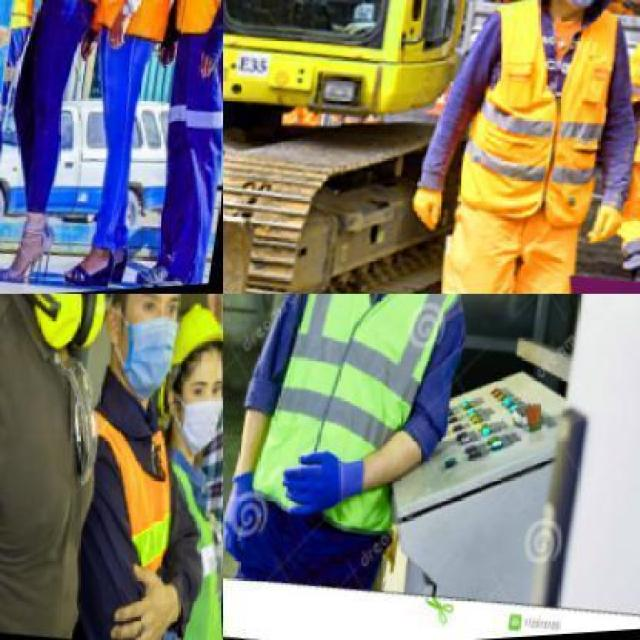Vest: (243, 294, 479, 557), (466, 0, 631, 248), (58, 389, 191, 605), (137, 452, 221, 638), (92, 0, 188, 66), (164, 0, 221, 78)
